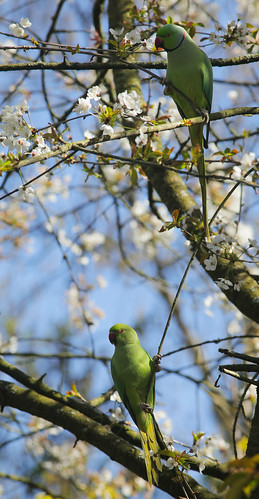animal: (134, 25, 230, 181), (91, 309, 187, 465)
vegetation: (1, 1, 258, 493)
